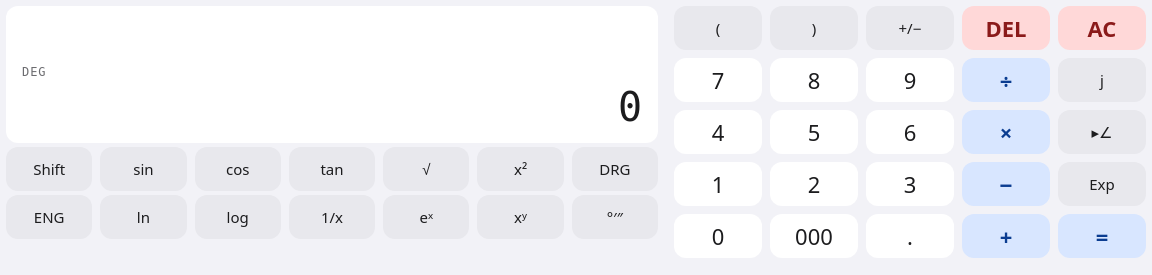
Test: 設定の永続化 › stores the angle mode when the user switches it
Expected: the text "DEG" is shown, [22,65,47,79]
Step 1. Click the button with aria-label "角度の単位を切り替え" → [615, 169], box [572,147,658,191]
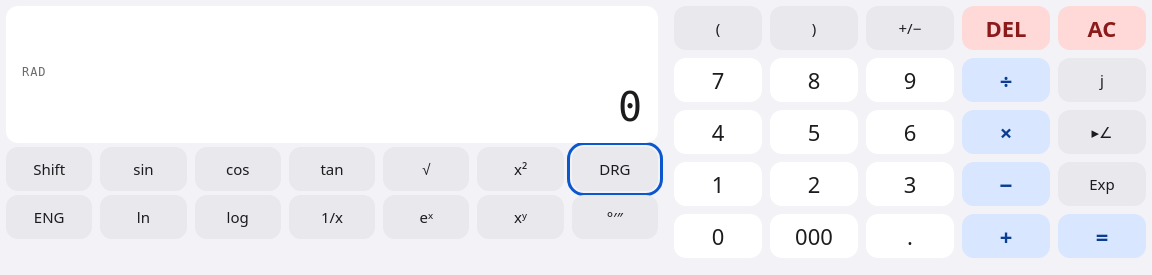
Expected: the text "RAD" is shown, [22,65,47,79]
